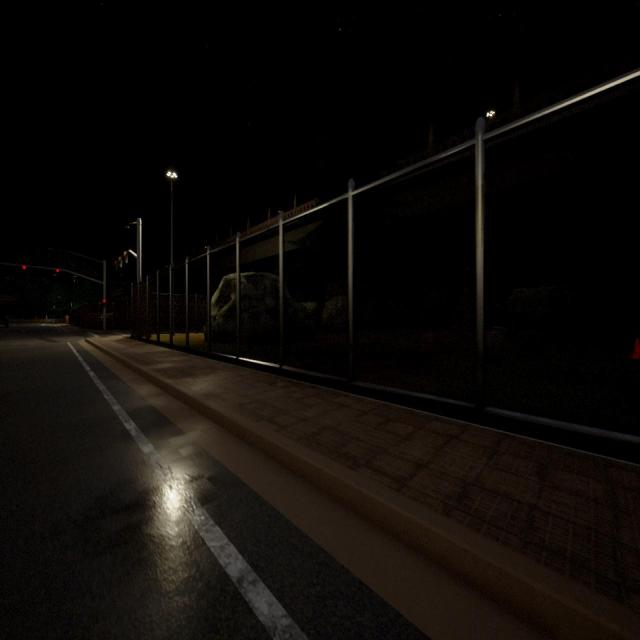traffic_light: (123, 252, 128, 263), (22, 265, 26, 275), (102, 299, 106, 308), (119, 256, 122, 268), (56, 268, 59, 277), (115, 260, 117, 269)
